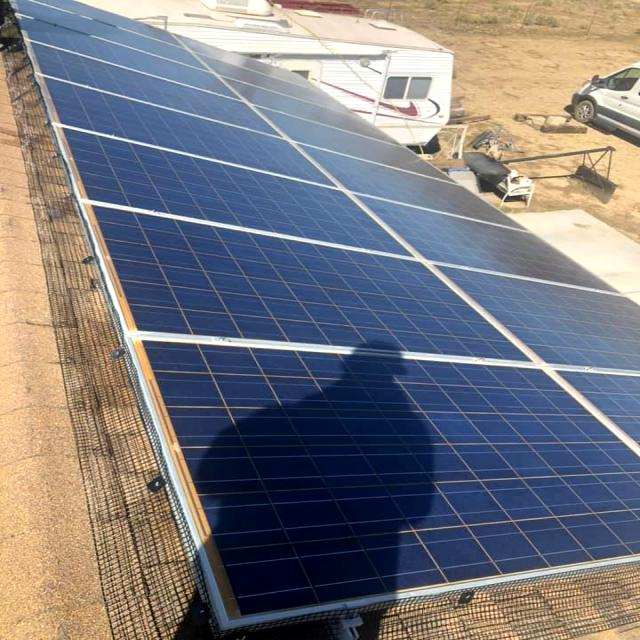crack: (121, 326, 640, 638), (54, 191, 558, 385), (27, 116, 459, 281), (27, 66, 354, 196), (352, 186, 640, 310), (8, 31, 310, 148), (409, 253, 640, 394)
